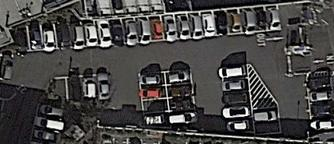parkingspot: (15, 4, 283, 58), (219, 63, 256, 134), (164, 68, 199, 133), (137, 71, 173, 129), (52, 73, 112, 103), (303, 77, 334, 132), (27, 102, 65, 144), (252, 105, 284, 135)
